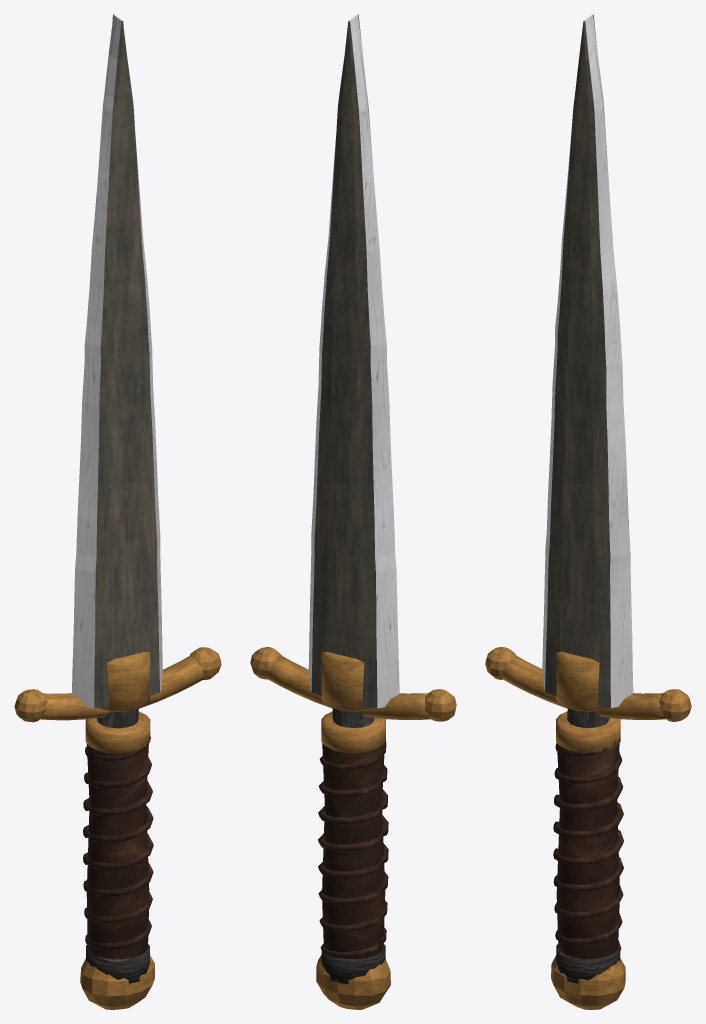
Rendered from vigil_dirk.glb.
3 views of the same model, side by side, from view 1: azimuth 30°, elevation 25°; view 2: azimuth 150°, elevation 25°; view 3: azimuth 330°, elevation 25° (orthographic).
Parts seen in each view (by area): view 1: Forged Blade with Eased Bevels.004, Bound palm grip.004, Continuous bound leather seam.004, Hand-forged crossguard.004, Rounded blade shoulder.004, Cast counterweight.004, Grip forward ferrule.004, Grip rear ferrule.004, Quillon end.004, Quillon end.005, Continuous tang.004; view 2: Forged Blade with Eased Bevels.004, Bound palm grip.004, Continuous bound leather seam.004, Hand-forged crossguard.004, Rounded blade shoulder.004, Cast counterweight.004, Grip forward ferrule.004, Grip rear ferrule.004, Quillon end.004, Quillon end.005, Continuous tang.004; view 3: Forged Blade with Eased Bevels.004, Bound palm grip.004, Continuous bound leather seam.004, Hand-forged crossguard.004, Rounded blade shoulder.004, Cast counterweight.004, Grip forward ferrule.004, Grip rear ferrule.004, Quillon end.005, Quillon end.004, Continuous tang.004.
Boxes of the visible parts, box(x1,y1,x2,y2) form: Forged Blade with Eased Bevels.004: box(72, 14, 162, 708); Bound palm grip.004: box(86, 743, 149, 959); Continuous bound leather seam.004: box(83, 736, 153, 949); Hand-forged crossguard.004: box(40, 656, 204, 720); Rounded blade shoulder.004: box(99, 652, 150, 711); Cast counterweight.004: box(80, 955, 154, 1009); Grip forward ferrule.004: box(85, 711, 150, 753); Grip rear ferrule.004: box(86, 944, 149, 983); Quillon end.004: box(14, 689, 47, 722); Quillon end.005: box(189, 647, 221, 679); Continuous tang.004: box(97, 708, 138, 728); Forged Blade with Eased Bevels.004: box(308, 14, 399, 708); Bound palm grip.004: box(322, 743, 385, 959); Continuous bound leather seam.004: box(318, 742, 388, 958); Hand-forged crossguard.004: box(267, 656, 430, 719); Rounded blade shoulder.004: box(321, 651, 372, 711); Cast counterweight.004: box(316, 955, 390, 1009); Grip forward ferrule.004: box(321, 711, 385, 753); Grip rear ferrule.004: box(321, 944, 385, 983); Quillon end.004: box(424, 689, 456, 721); Quillon end.005: box(250, 647, 281, 679); Continuous tang.004: box(332, 708, 374, 727); Forged Blade with Eased Bevels.004: box(542, 14, 633, 708); Bound palm grip.004: box(556, 743, 619, 959); Continuous bound leather seam.004: box(553, 742, 623, 957); Hand-forged crossguard.004: box(501, 656, 665, 719); Rounded blade shoulder.004: box(556, 651, 607, 711); Cast counterweight.004: box(551, 955, 625, 1009); Grip forward ferrule.004: box(556, 711, 620, 753); Grip rear ferrule.004: box(556, 944, 620, 983); Quillon end.005: box(659, 689, 691, 721); Quillon end.004: box(485, 647, 516, 679); Continuous tang.004: box(567, 708, 609, 727).
Size of the model in its own units: 0.1708 by 0.7951 by 0.0512.
Materials: 5 (5 with a texture image).
